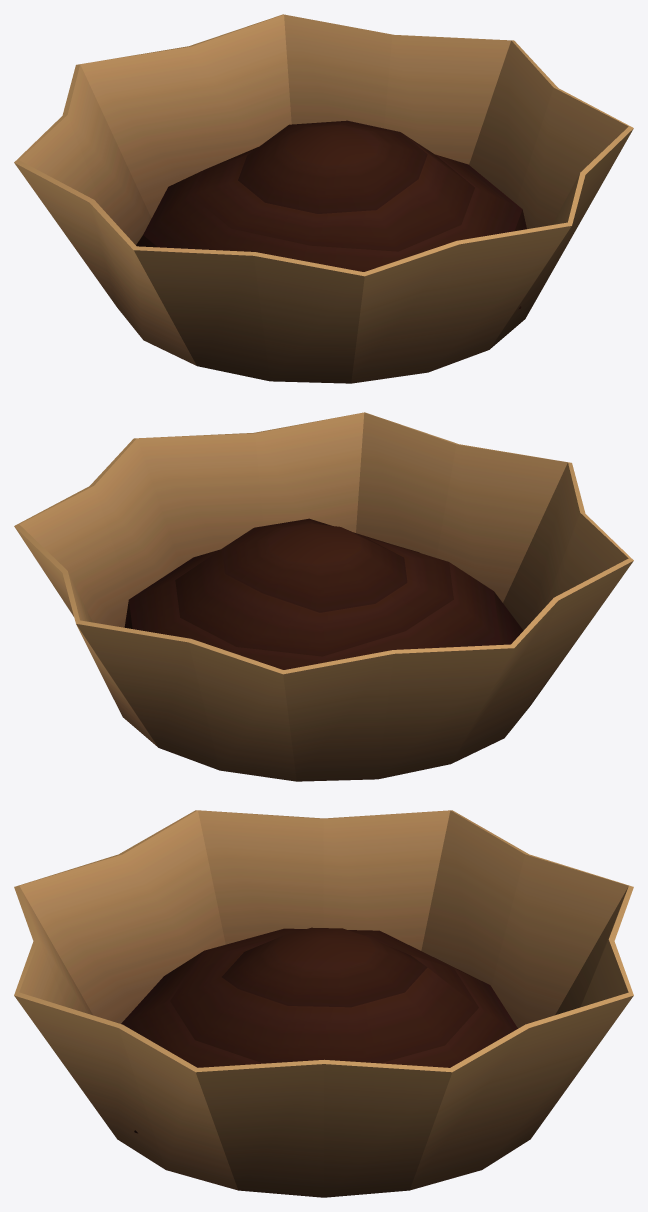
File: Coffee_Grounds_Textured.FBX
3 renders of one model, top to bottom at view 1: azimuth 30°, elevation 25°; view 2: azimuth 150°, elevation 25°; view 3: azimuth 270°, elevation 25°, orthographic. The views are drawn at different scales.
Visible parts, largest first — view 1: Grounds & Shells; view 2: Grounds & Shells; view 3: Grounds & Shells.
Boxes of the visible parts, left/top/right/bottom form: Grounds & Shells: left=14, top=14, right=633, bottom=383; Grounds & Shells: left=14, top=412, right=633, bottom=781; Grounds & Shells: left=14, top=810, right=633, bottom=1197.
Bounding box in the file's own units: 462 × 139 × 462.
1 material, 1 textured.
